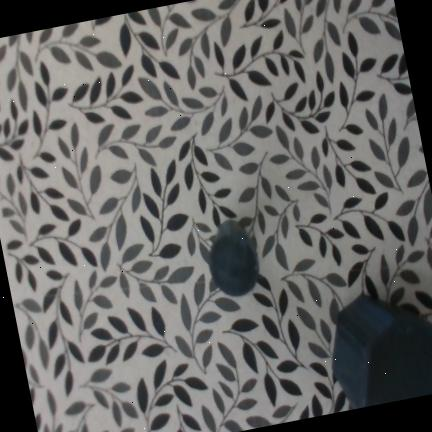Cilindro: (209, 220, 258, 297)
Prisma_hexagonal: (332, 297, 432, 408)
